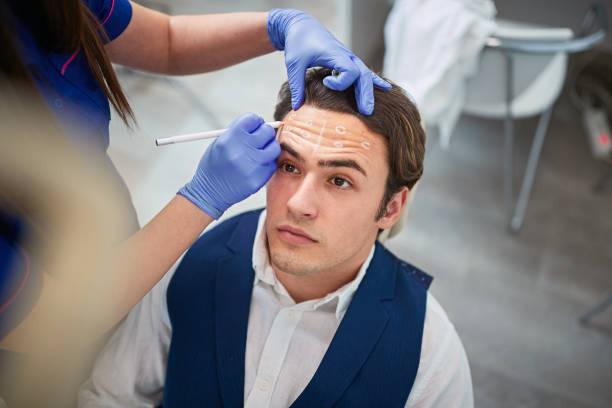Dry-Skin: (287, 108, 366, 160)
